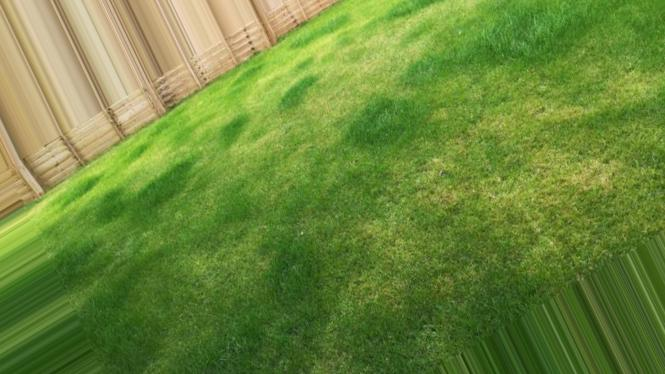patch: (343, 249, 414, 302), (130, 146, 221, 185), (483, 134, 603, 162), (359, 158, 404, 225), (420, 179, 490, 221), (516, 182, 595, 215), (374, 25, 427, 71), (293, 60, 369, 90), (72, 176, 126, 205), (228, 89, 280, 108)
